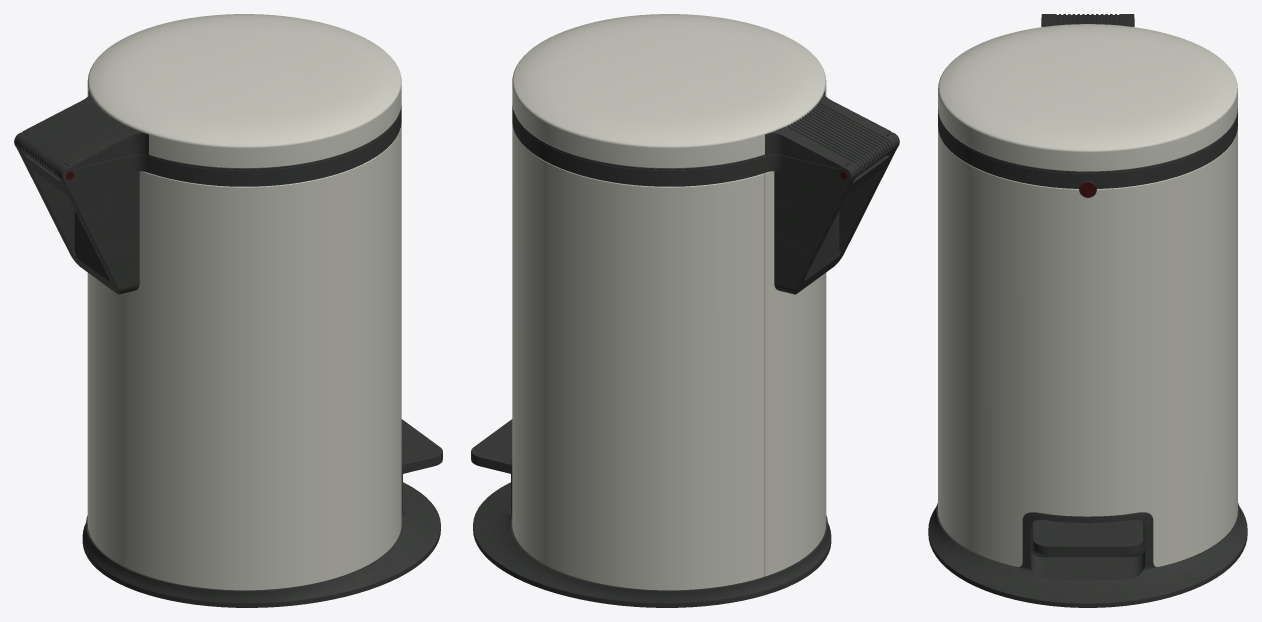
The model's file is bin_waste_a01.glb.
3 views of the same model, side by side, from view 1: azimuth 30°, elevation 25°; view 2: azimuth 150°, elevation 25°; view 3: azimuth 270°, elevation 25° (orthographic). The views are drawn at different scales.
Parts seen in each view (by area): view 1: body_01_mesh_00, lid_01_mesh_00, pedal_01_mesh_00; view 2: body_01_mesh_00, lid_01_mesh_00, pedal_01_mesh_00; view 3: body_01_mesh_00, lid_01_mesh_00, pedal_01_mesh_00.
Boxes of the visible parts, left/top/right/bottom form: body_01_mesh_00: left=14, top=107, right=440, bottom=607; lid_01_mesh_00: left=20, top=14, right=401, bottom=176; pedal_01_mesh_00: left=401, top=419, right=442, bottom=473; body_01_mesh_00: left=473, top=107, right=899, bottom=607; lid_01_mesh_00: left=512, top=14, right=893, bottom=176; pedal_01_mesh_00: left=471, top=419, right=512, bottom=473; body_01_mesh_00: left=928, top=14, right=1247, bottom=607; lid_01_mesh_00: left=938, top=14, right=1237, bottom=173; pedal_01_mesh_00: left=1033, top=519, right=1142, bottom=554.
Bounding box in the file's own units: 0.2377 × 0.28 × 0.1801.
5 materials, 2 textured.
